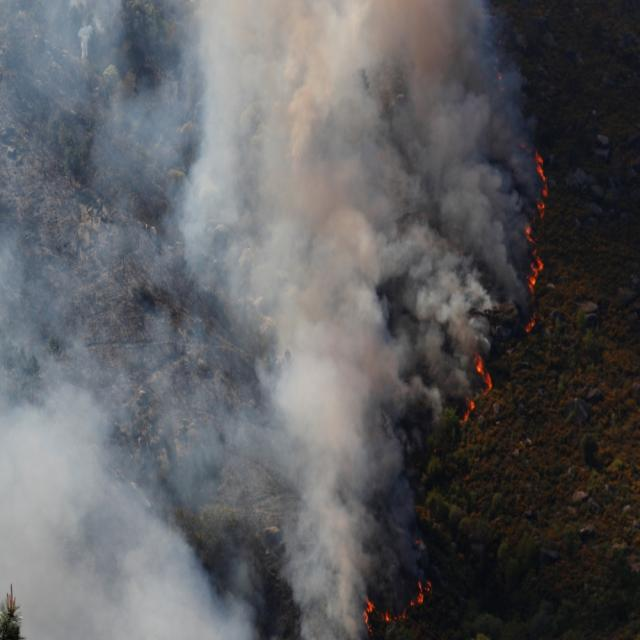smoke: (230, 29, 368, 307), (36, 443, 175, 640)
